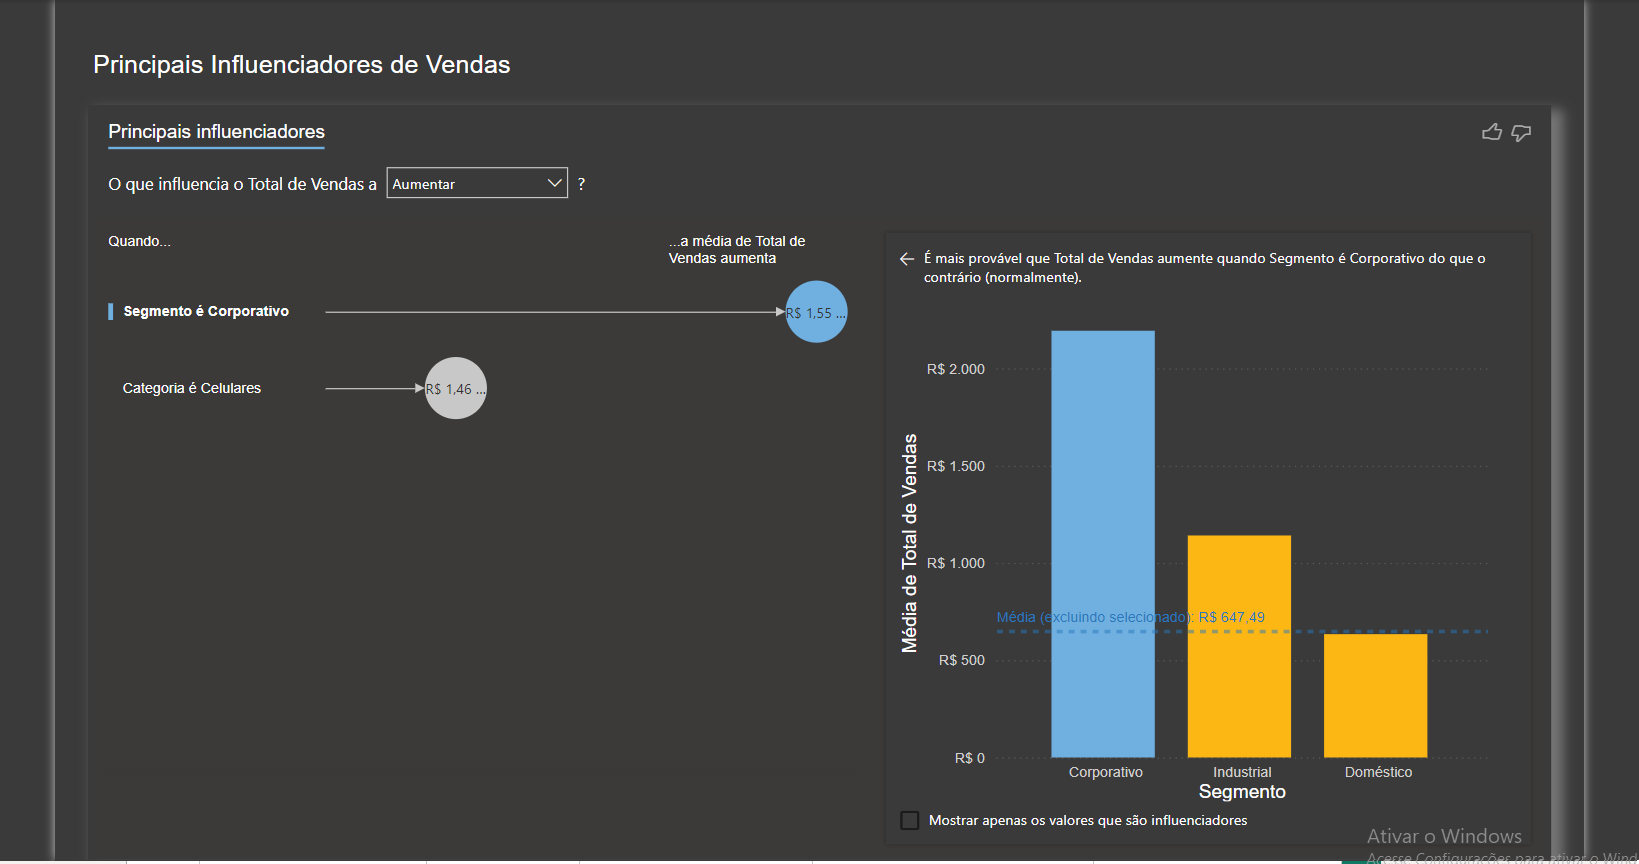

What the dashboard file says about the page in this screenshot:
{"tool":"powerbi","page":{"name":"Principais Influenciadores de Vendas","canvas":[1280,720],"ordinal":3},"visuals":[{"type":"keyDriversVisual","fields":{"ExplainBy":["Vendas.Segmento","Vendas.Categoria"],"Target":["Vendas.ValorVenda"]},"box":[27.3,87.7,1224.7,632.3],"z":0},{"type":"textbox","box":[27,37.1,373.5,37.1],"z":2001}]}

Visuals, with their boxes on the page's 1280x720 design canvas (x1, y1, x2, y2). These are canvas units, not pixel positions in the 1639x864 screenshot, which may show the page scaled, cropped or inside an application window:
keyDriversVisual - Vendas.Segmento x Vendas.Categoria: (left=27, top=88, right=1252, bottom=720)
textbox: (left=27, top=37, right=400, bottom=74)
